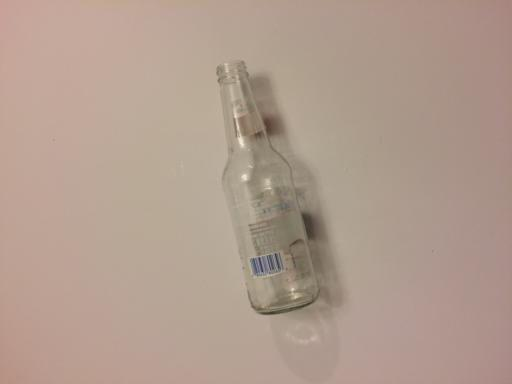botolkaca: (218, 61, 321, 314)
